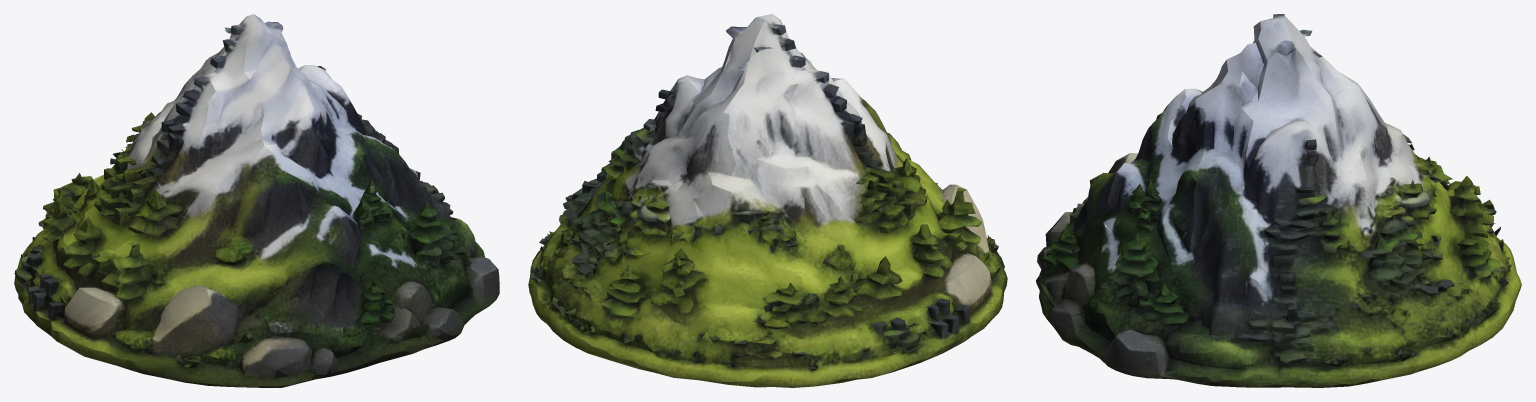
The model's file is mountain.glb.
3 renders of one model, left to right at view 1: azimuth 30°, elevation 25°; view 2: azimuth 150°, elevation 25°; view 3: azimuth 270°, elevation 25°, orthographic. The views are drawn at different scales.
Parts seen in each view (by area): view 1: geometry_0; view 2: geometry_0; view 3: geometry_0.
Boxes of the visible parts, <box> form: geometry_0: <box>14,14,499,387</box>; geometry_0: <box>528,14,1007,387</box>; geometry_0: <box>1036,14,1521,387</box>.
Bounding box in the file's own units: 0.3 × 0.1895 × 0.3004.
Materials: 1 (1 with a texture image).
